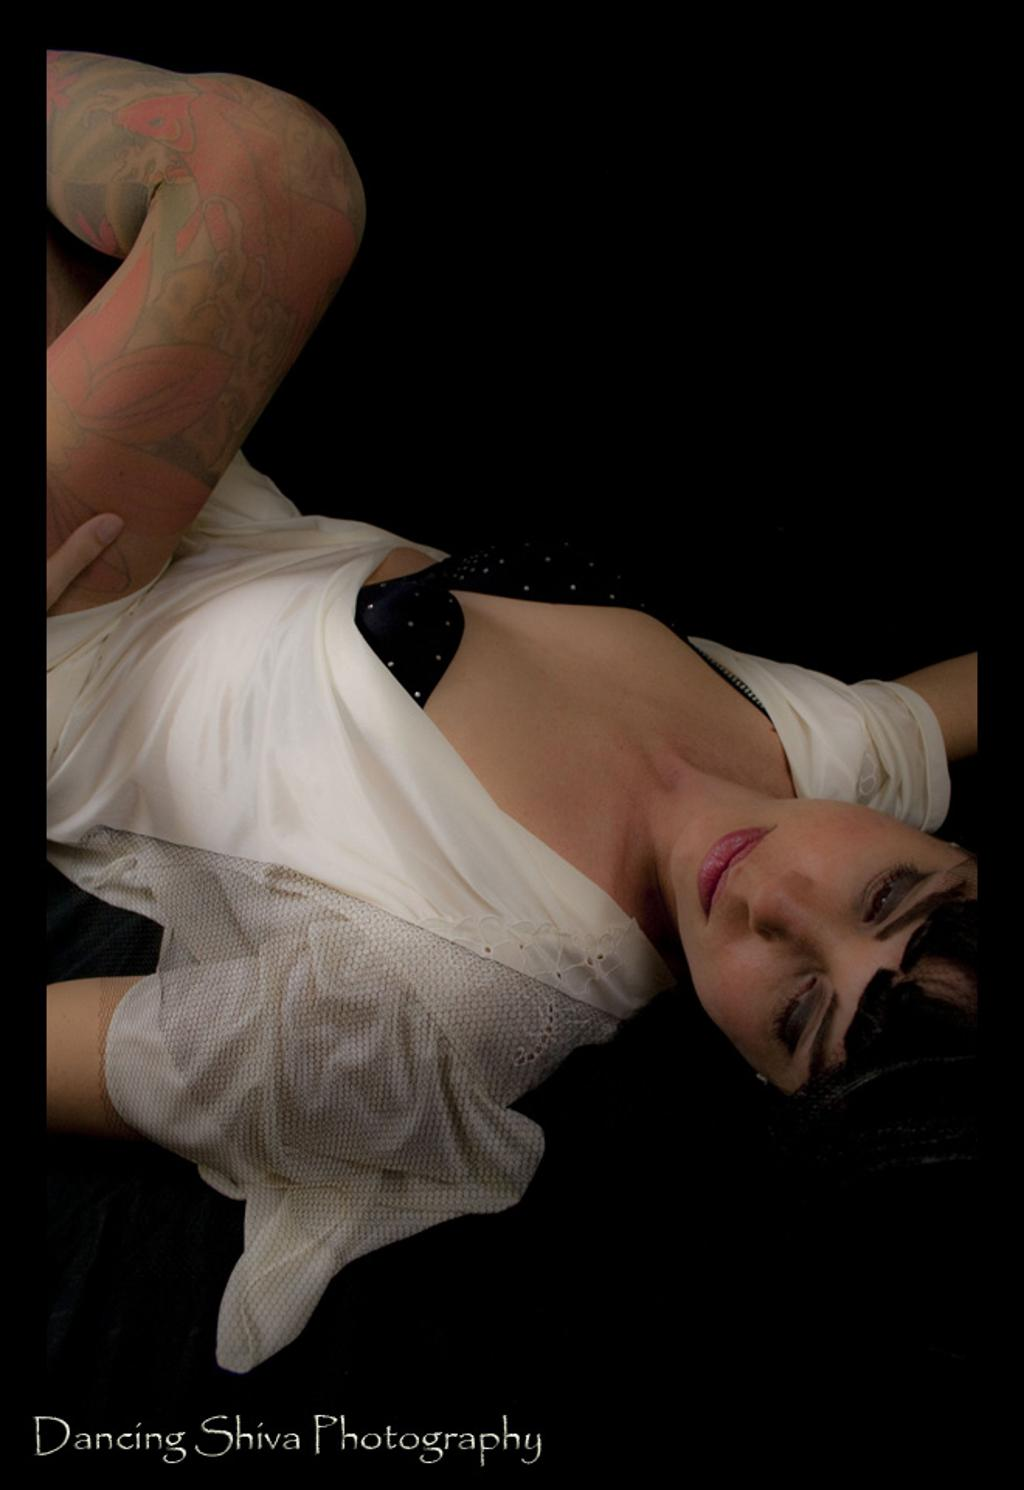face: (657, 806, 1015, 1158)
